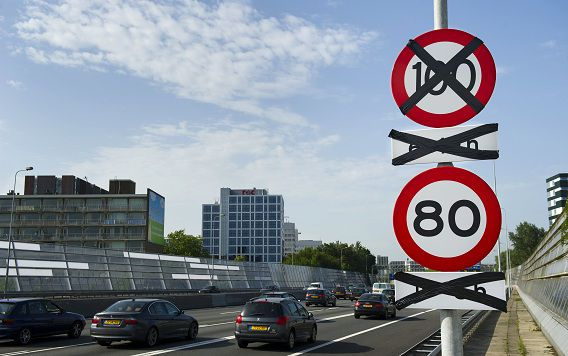Speed_limit_80km: (392, 167, 503, 271)
